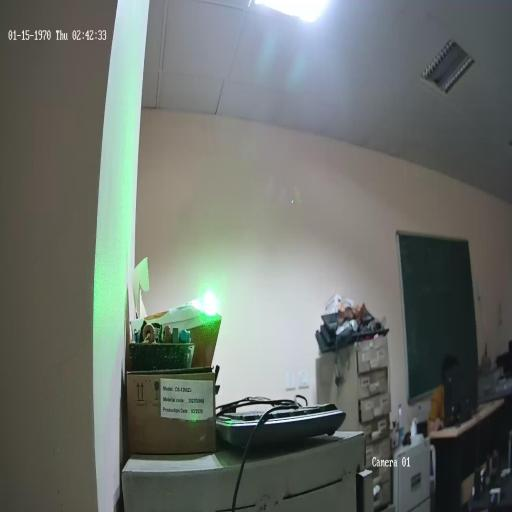laser: (200, 282, 223, 322)
